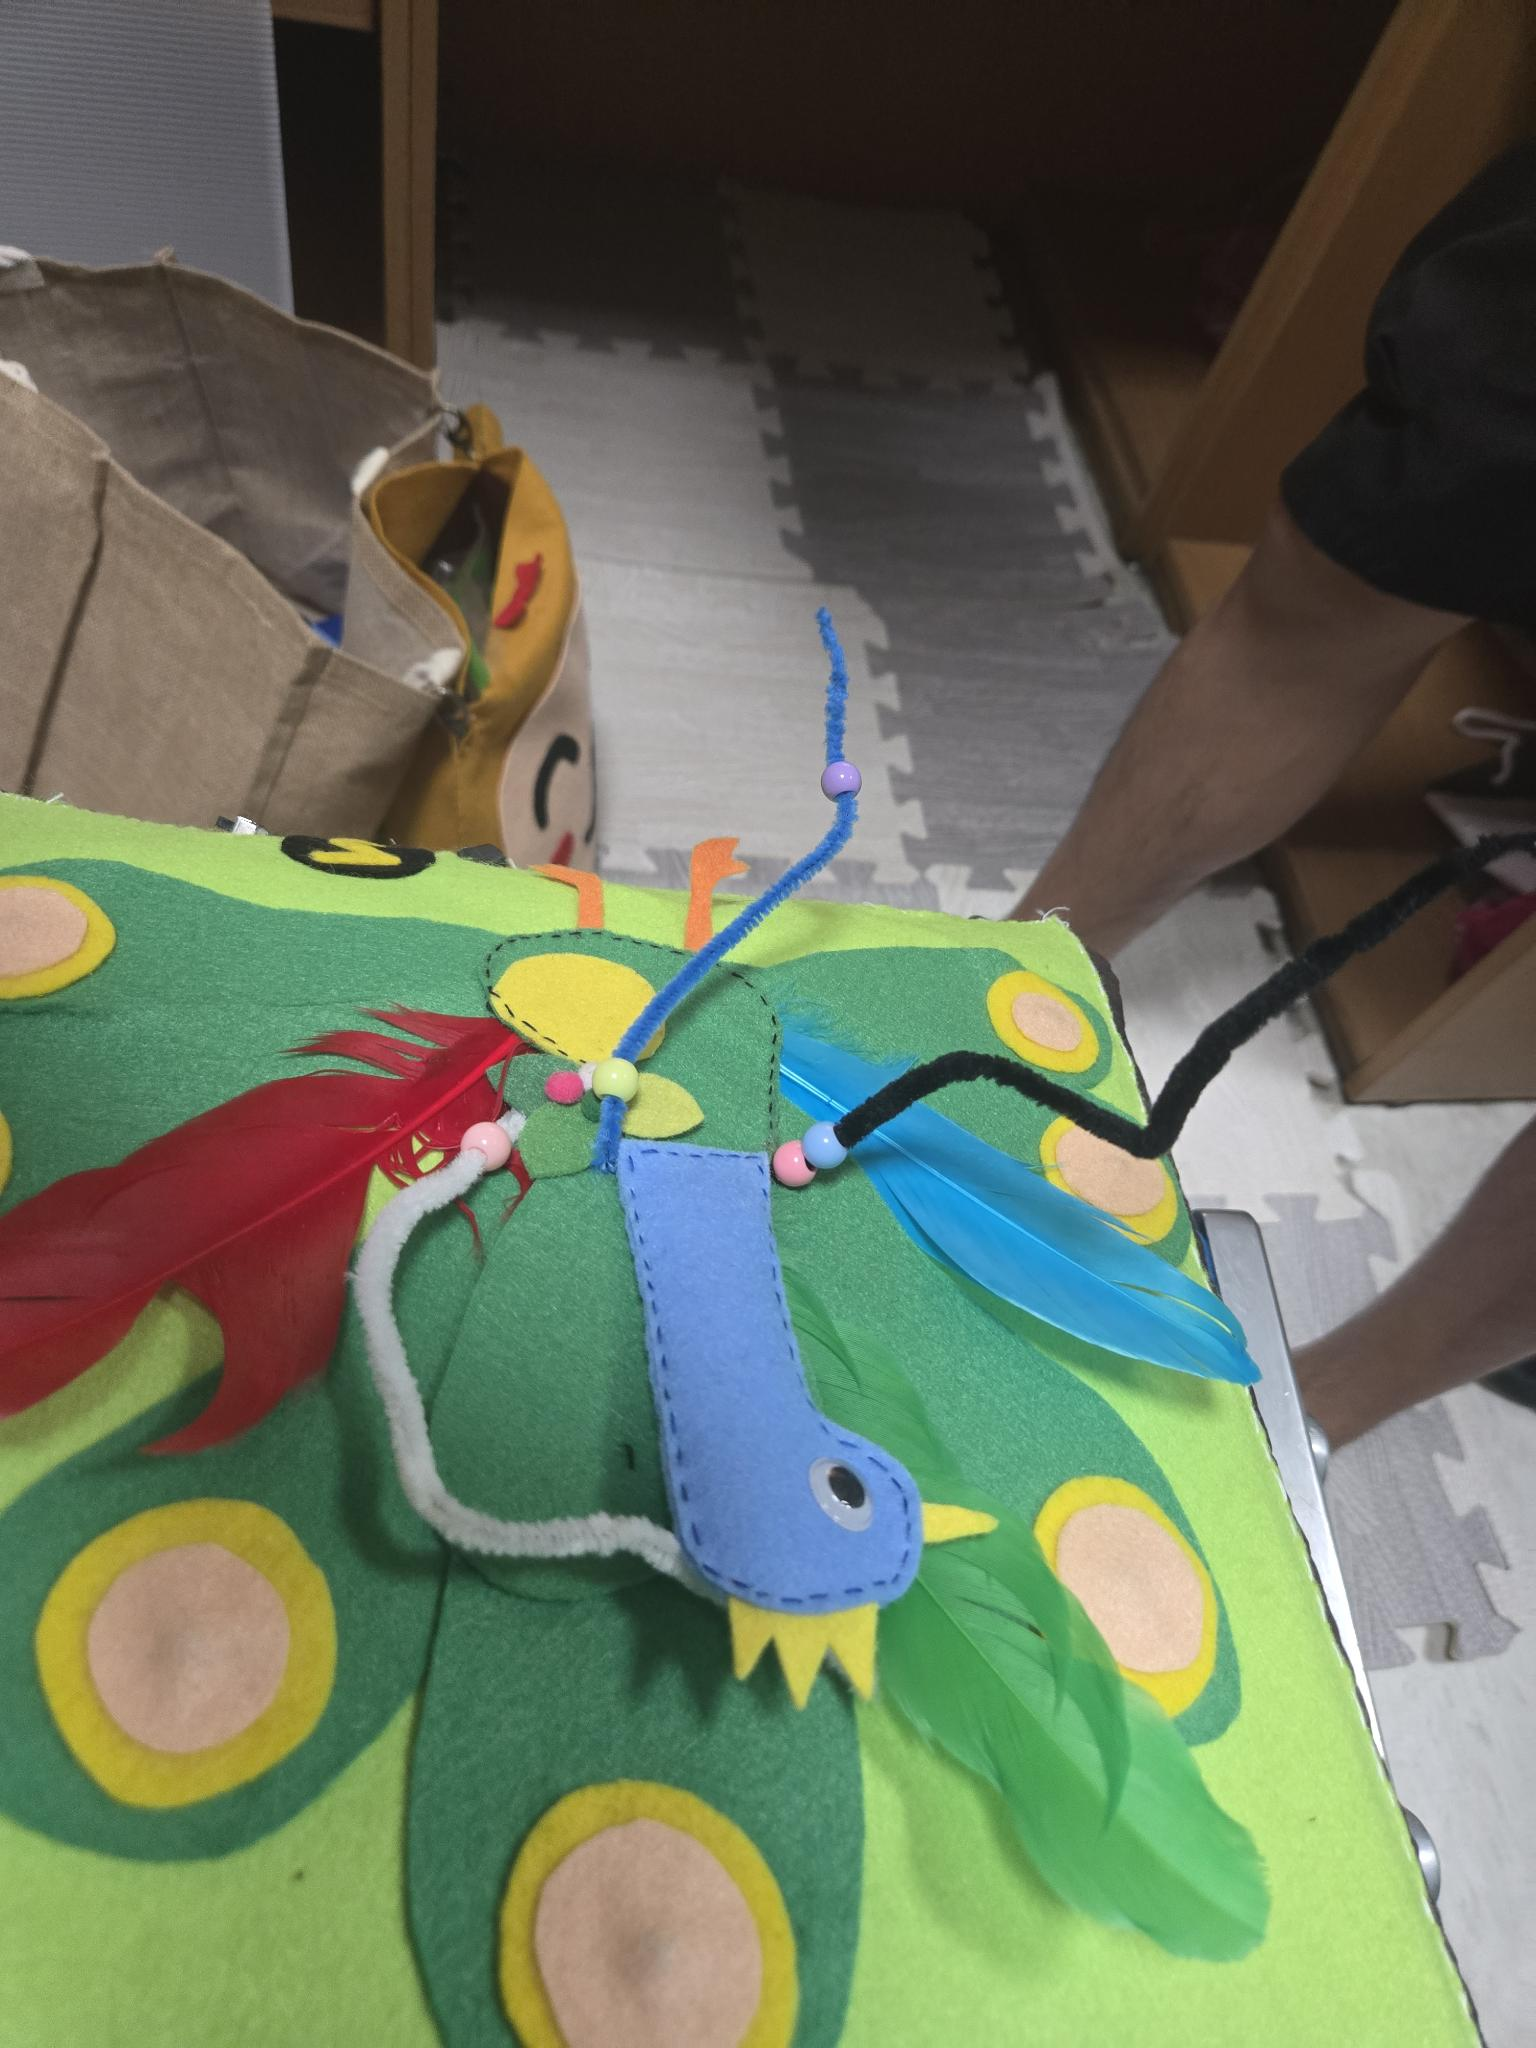bead: (440, 1096, 530, 1198), (748, 1122, 816, 1214), (584, 1036, 648, 1132), (800, 1102, 867, 1190), (810, 749, 870, 825)
